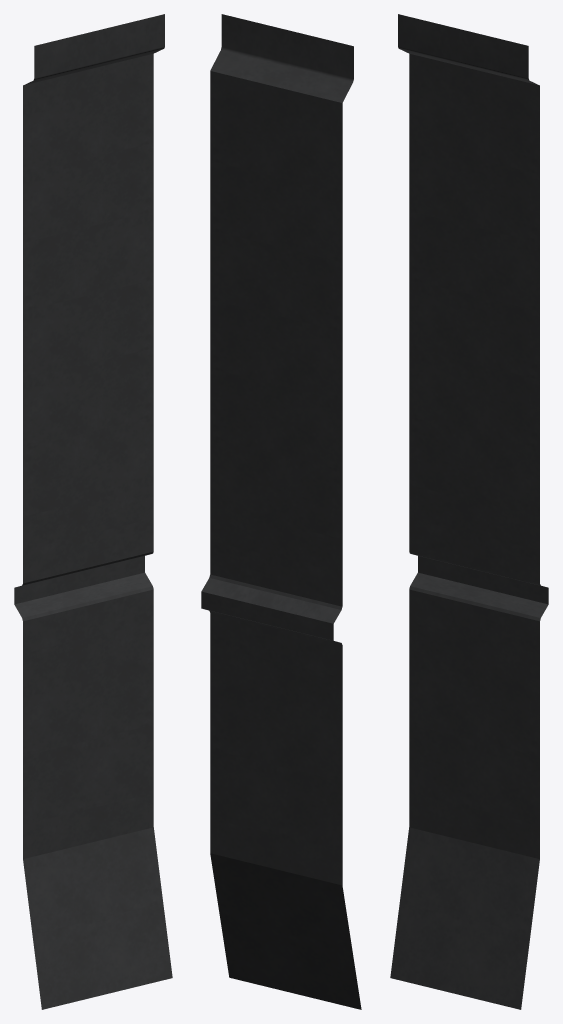
File: M_Wall_Straight_2x14_v2.fbx
3 renders of one model, left to right at view 1: azimuth 30°, elevation 25°; view 2: azimuth 150°, elevation 25°; view 3: azimuth 330°, elevation 25°, orthographic.
Visible parts, largest first — view 1: Wall_Straight_2x14_v2; view 2: Wall_Straight_2x14_v2; view 3: Wall_Straight_2x14_v2.
Boxes of the visible parts, x1=… form: Wall_Straight_2x14_v2: x1=14, y1=14, x2=172, y2=1009; Wall_Straight_2x14_v2: x1=201, y1=14, x2=361, y2=1009; Wall_Straight_2x14_v2: x1=390, y1=14, x2=548, y2=1009.
Bounding box in the file's own units: 200 × 1400 × 73.02.
